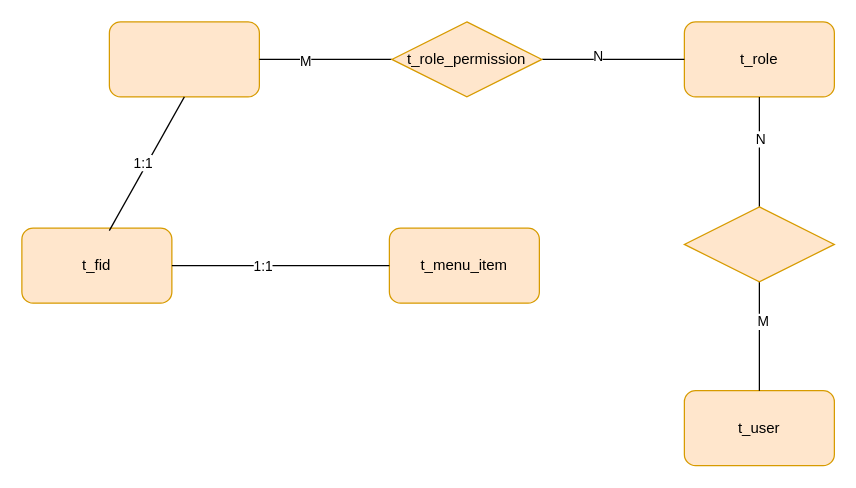
Some shapes in this 856 by 488 pixel diagram are drawn without their labels. The box of each missing label's shape, as (x1, y1, x2, y2) in pixels:
t_permission: (108, 21, 259, 97)
t_role_user: (683, 206, 834, 282)
